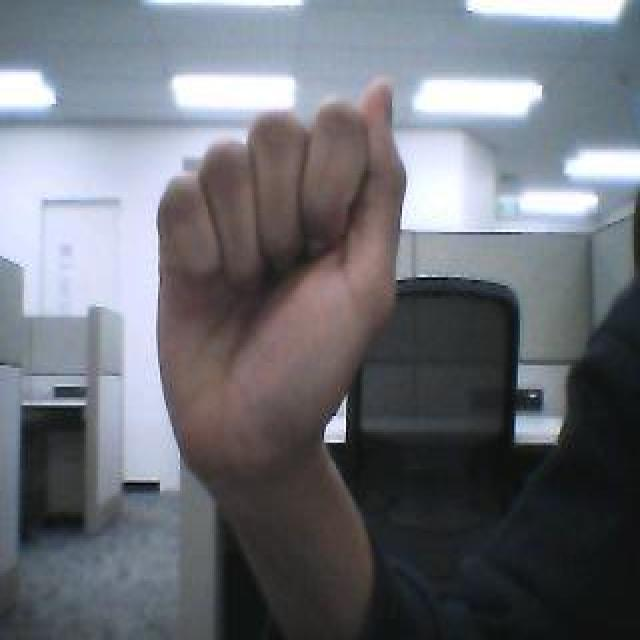fist: (153, 73, 405, 535)
